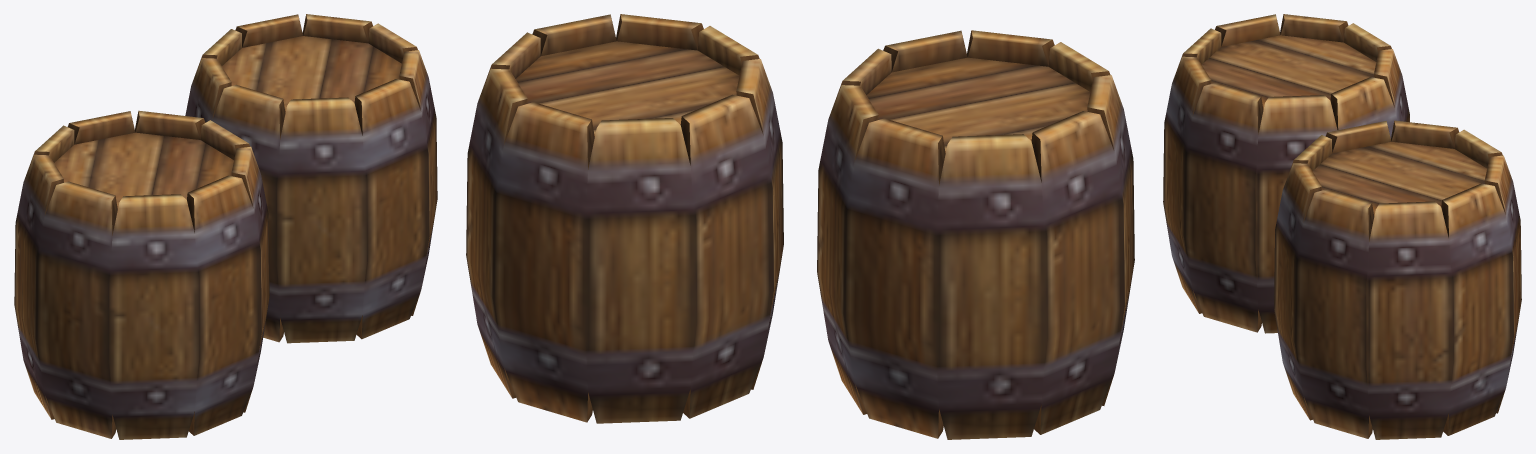
Rendered from Area_12_20.fbx.
3 renders of one model, left to right at view 1: azimuth 30°, elevation 25°; view 2: azimuth 150°, elevation 25°; view 3: azimuth 270°, elevation 25°, orthographic. The views are drawn at different scales.
Parts seen in each view (by area): view 1: Area_12_20; view 2: Area_12_20; view 3: Area_12_20.
Boxes of the visible parts, bbox=[...] form: Area_12_20: bbox=[14, 14, 437, 439]; Area_12_20: bbox=[466, 14, 1134, 439]; Area_12_20: bbox=[1163, 14, 1521, 439].
Bounding box in the file's own units: 224 × 114 × 161.
